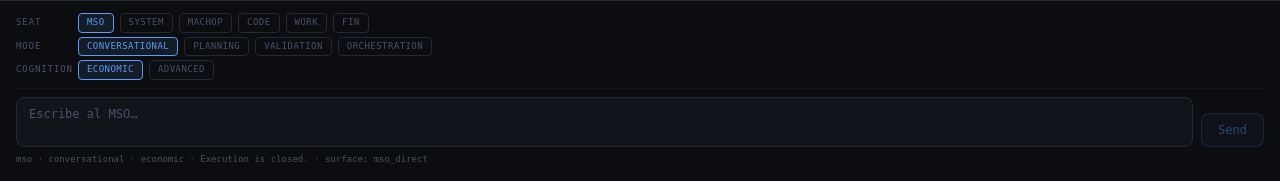
Test: MSOComposer › send button is disabled while loading
Type "slow" into the text box at [605, 122], box 16,96 -> 1193,146
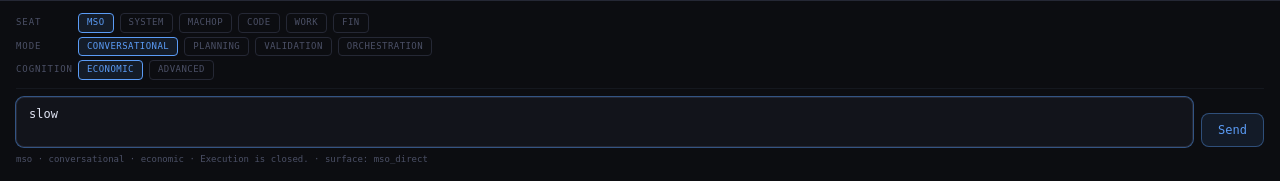
Click the button "Send" at [1233, 130], box 1201,112 -> 1264,146
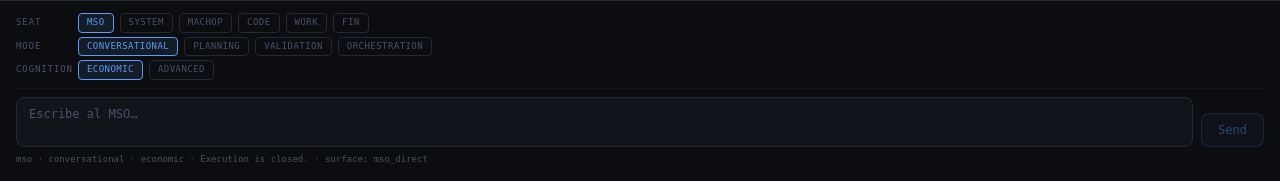
Now the button "Send" is disabled, box 1201,112 -> 1264,146
